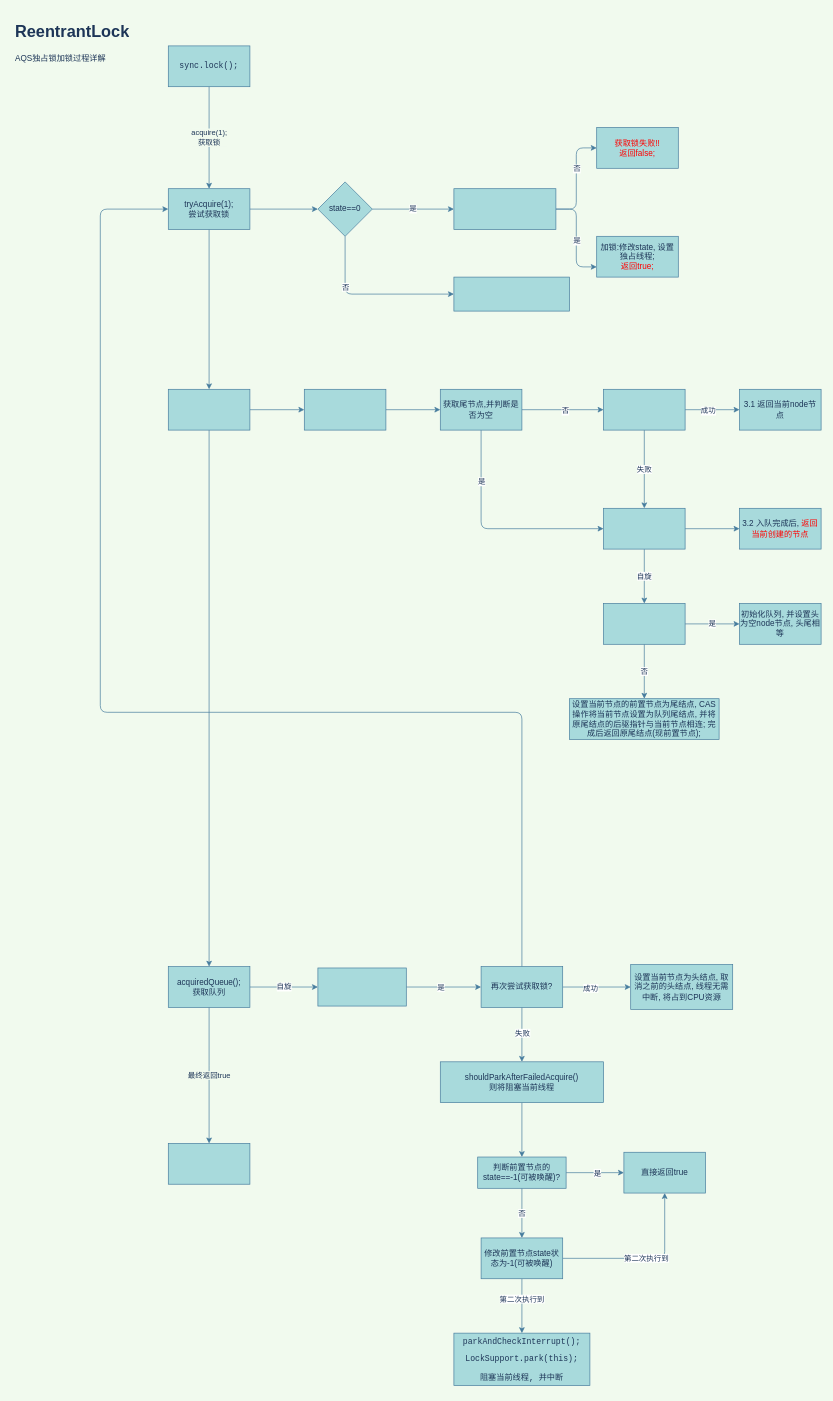
This 833x1401 diagram has some shape labels left out. Here are the shapes that lost their labels. From the top down, the centre of each, then its label:
At [504,209]: "hasQueuePredecessors(); 判断队列是否为空?".
At [511,293]: "判断当前线程是否是独占线程? (重入锁, state+1) 返回true;".
At [209,409]: "addWaiter(); 入队".
At [345,409]: "1.创建当前Node节点".
At [644,409]: "2.1 CAS 设置当前节点的前驱指针为尾结点".
At [644,528]: "2.2 节点入队 enq(node)".
At [644,623]: "判断尾节点是否为空 (即: 队列是否为空)".
At [361,986]: "获取当前节点的前直节点, 判断是否为头节点?".
At [209,1163]: "阻断当期线程, 未获取到锁".
